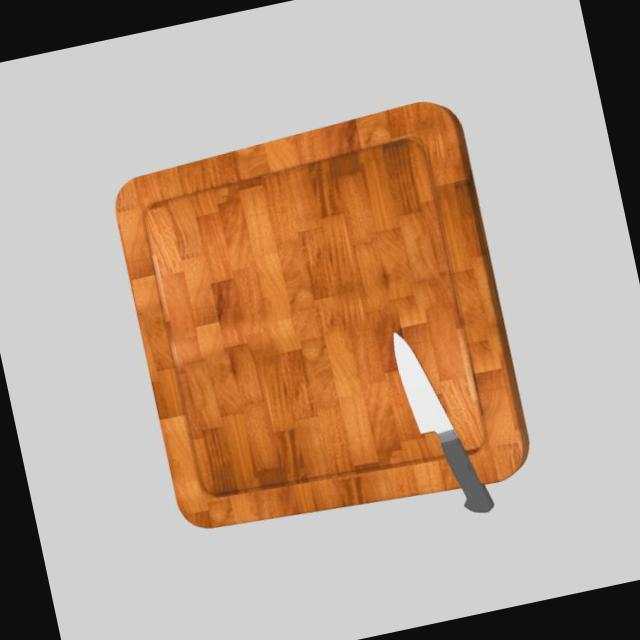knife: (440, 431, 495, 516)
